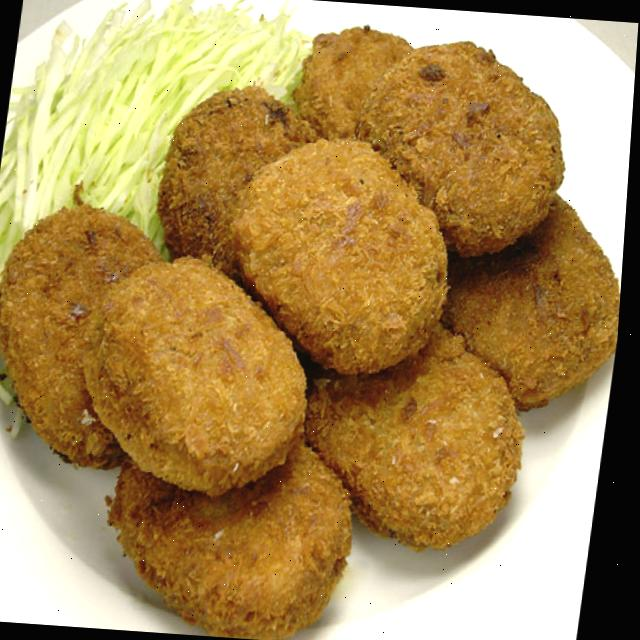炸货点心: (0, 2, 640, 640)
